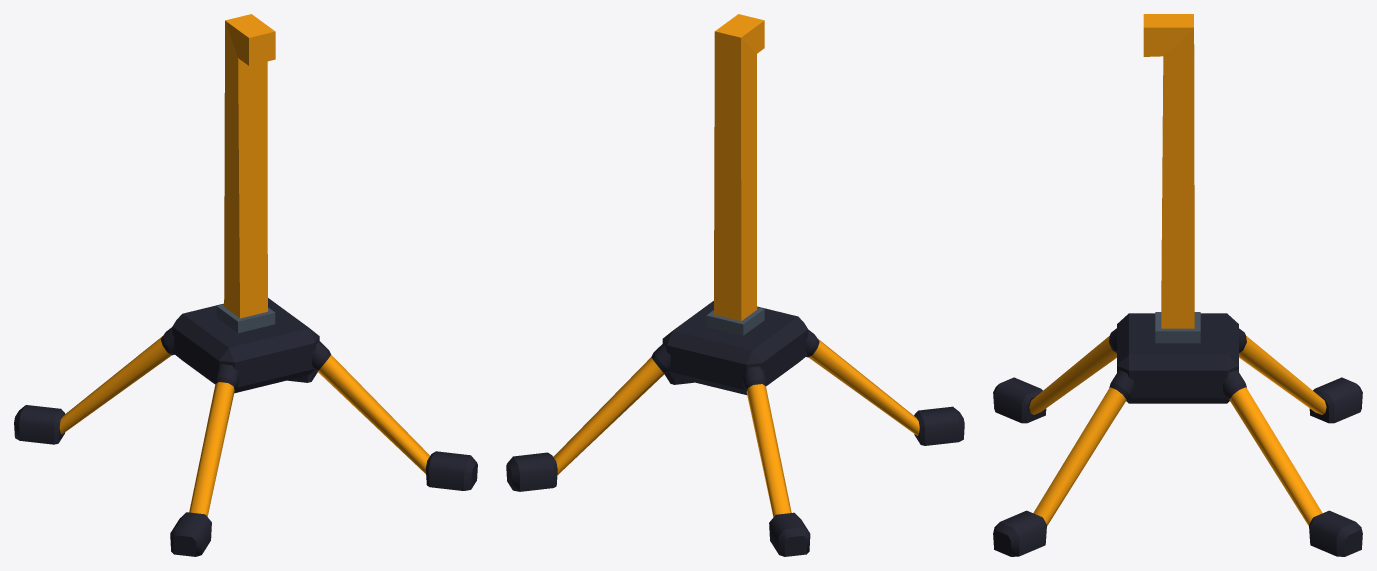
Rendered from SignHolder_2_C.fbx.
3 renders of one model, left to right at view 1: azimuth 30°, elevation 25°; view 2: azimuth 150°, elevation 25°; view 3: azimuth 270°, elevation 25°, orthographic. The views are drawn at different scales.
Visible parts, largest first — view 1: SignHolder_2_C; view 2: SignHolder_2_C; view 3: SignHolder_2_C.
Part boxes in pixels (<box>): SignHolder_2_C: <box>14,14,477,556</box>; SignHolder_2_C: <box>506,14,964,556</box>; SignHolder_2_C: <box>993,14,1362,556</box>.
Bounding box in the file's own units: 68.48 × 93.7 × 68.48.
